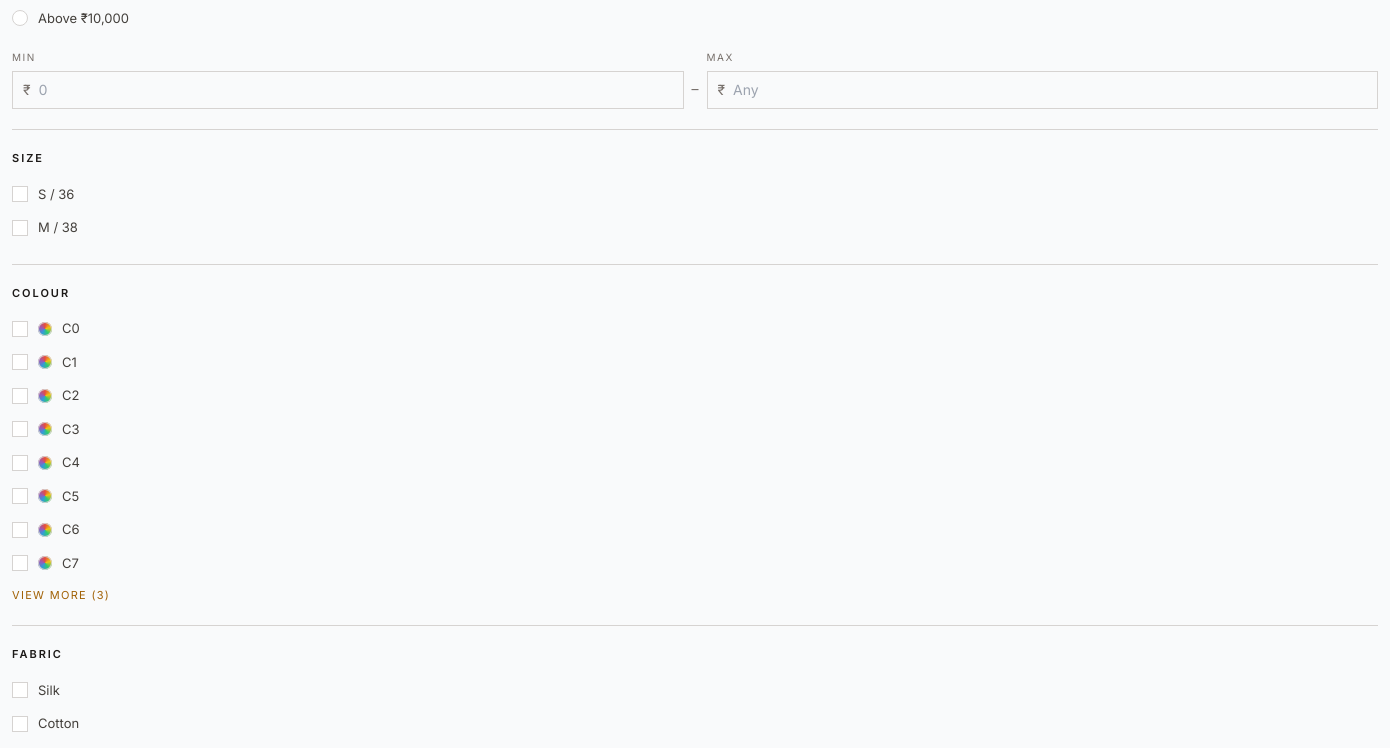
Test: FilterSidebar › collapses lists longer than 8 behind View more
This screenshot has width=1390, height=748.
(page scrolled)
Click the button "View more (3)" at x=61, y=595, box top-left (12, 587), bottom-right (110, 604)
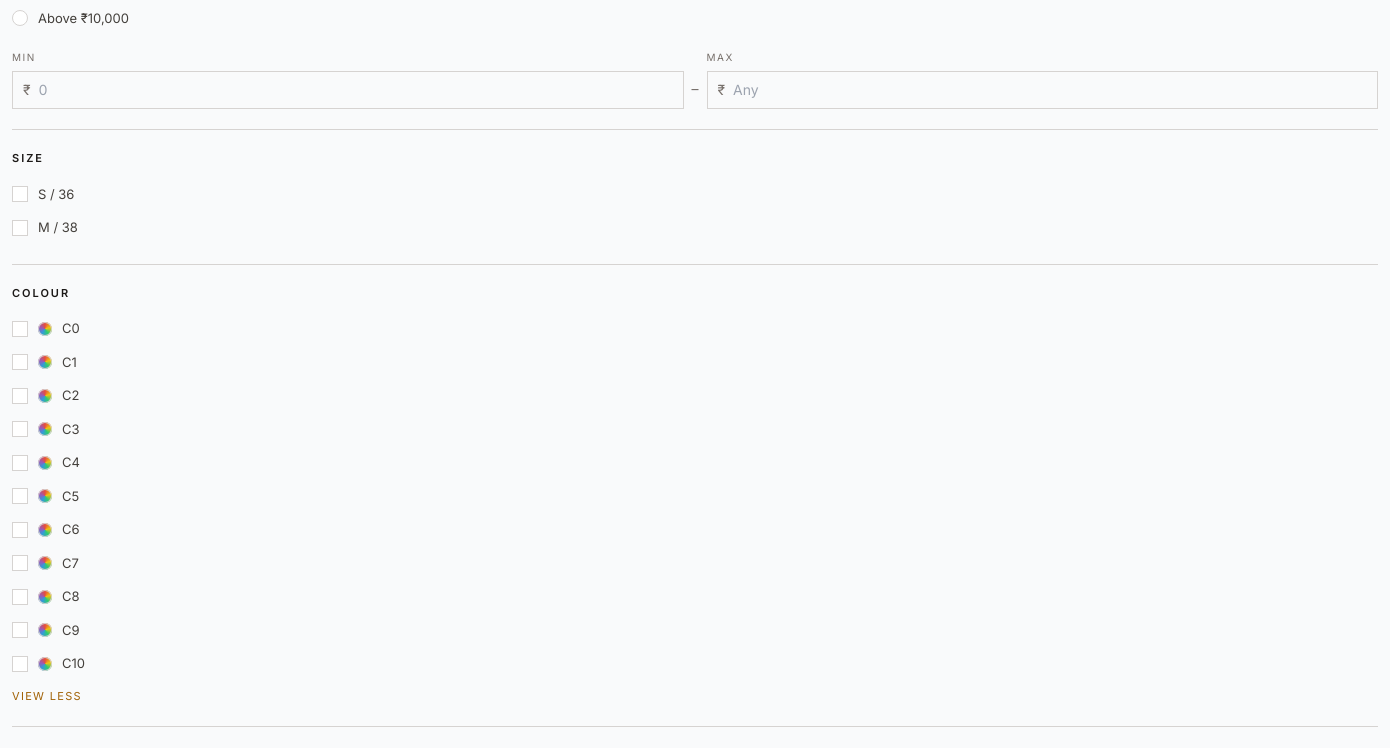
Now the button "View less" is shown, box top-left (12, 688), bottom-right (82, 704)
